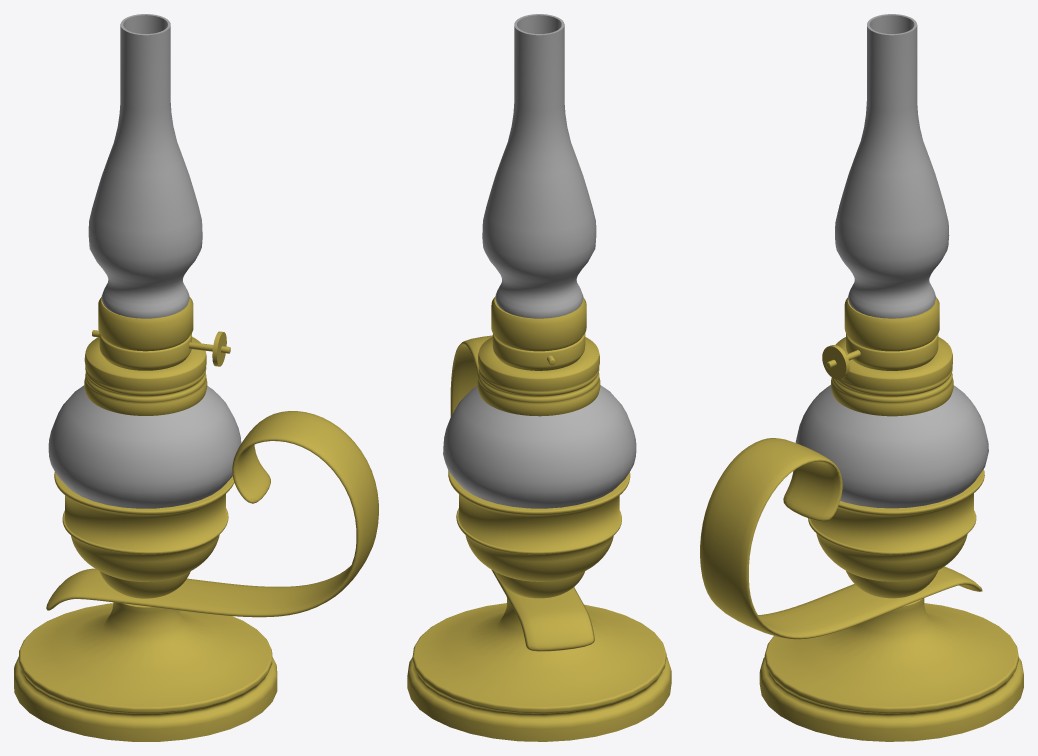
The model's file is F_Lamp_01.fbx.
3 views of the same model, side by side, from view 1: azimuth 30°, elevation 25°; view 2: azimuth 150°, elevation 25°; view 3: azimuth 270°, elevation 25° (orthographic).
Visible parts, largest first — view 1: F_Lamp_01.005; view 2: F_Lamp_01.005; view 3: F_Lamp_01.005.
Part boxes in pixels (box(x1,y1,x2,y2)): F_Lamp_01.005: box(14, 14, 378, 741); F_Lamp_01.005: box(407, 14, 671, 741); F_Lamp_01.005: box(700, 14, 1023, 741).
Size of the model in its own units: 17.83 by 41 by 18.2.
